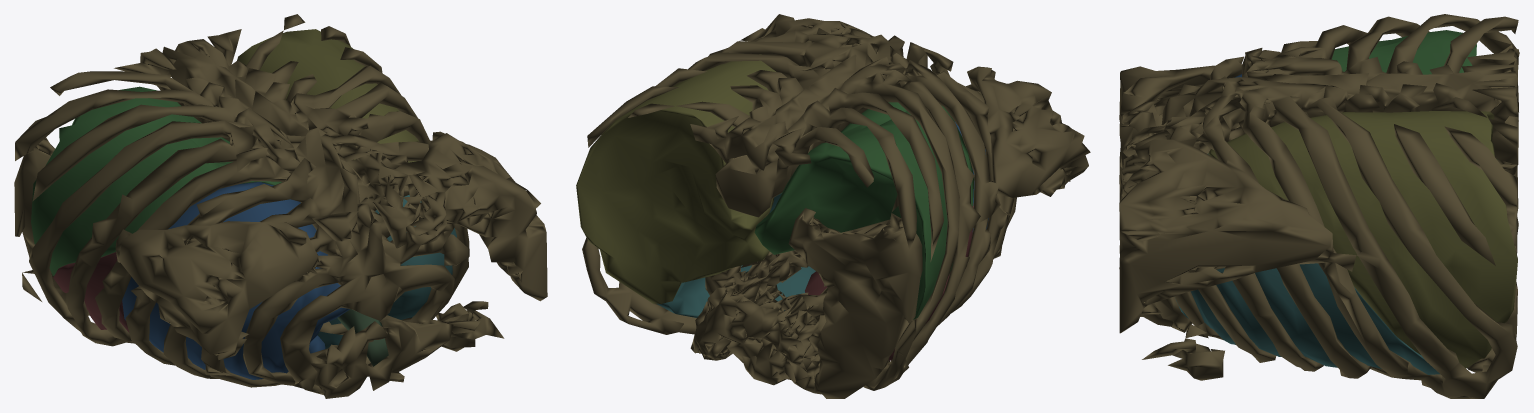
3 views of the same model, side by side, from view 1: azimuth 30°, elevation 25°; view 2: azimuth 150°, elevation 25°; view 3: azimuth 270°, elevation 25° (orthographic). The views are drawn at different scales.
Bounding box in the file's own units: 300 × 210 × 284.
